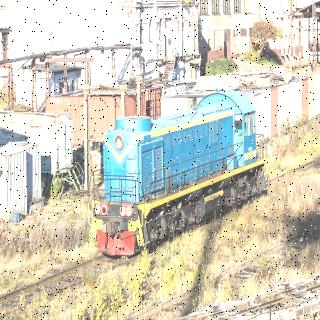poezd: (96, 84, 266, 255)
